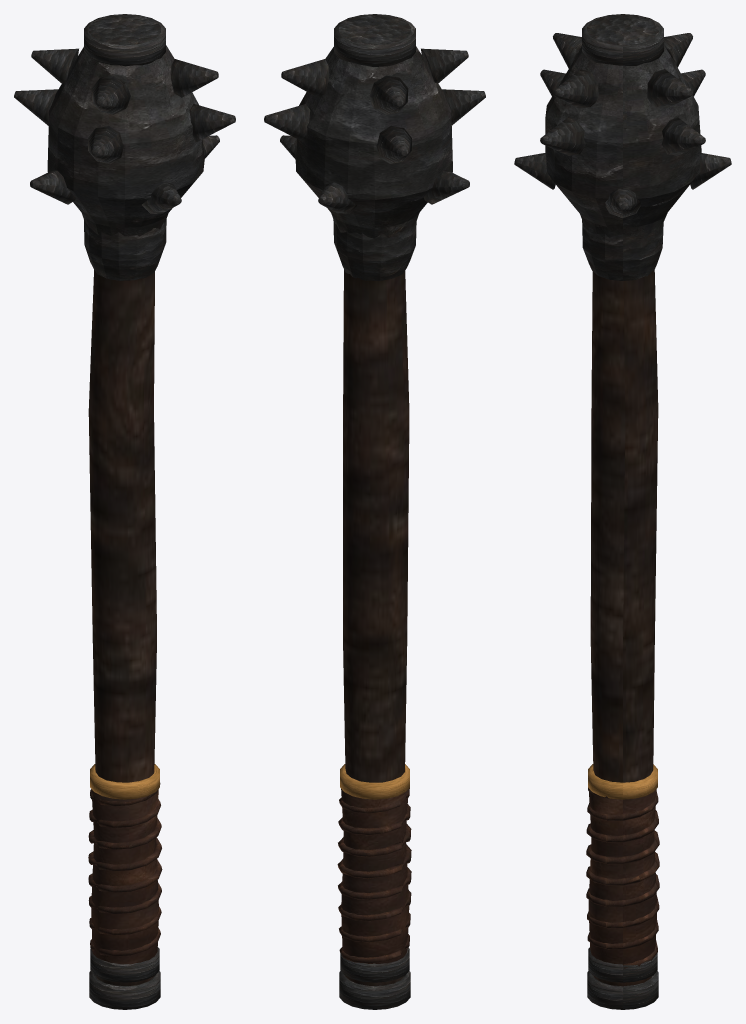
Rendered from bell_iron_morningstar.glb.
The picture shows the model from 3 angles, left to right: view 1: azimuth 30°, elevation 25°; view 2: azimuth 150°, elevation 25°; view 3: azimuth 270°, elevation 25°; orthographic projection.
Parts seen in each view (by area): view 1: Straight palm shaft and tapered ironwood.005, Hollow cast bell-iron head.001, Bound palm grip.011, Continuous bound leather seam.011, Shaft collar.001, Swaged head socket.005, Socketed pommel ferrule.005, Grip rear ferrule.011, Grip forward ferrule.011, Blunted morningstar lug.010, Blunted morningstar lug.011, Blunted morningstar lug.006 (+5 smaller); view 2: Straight palm shaft and tapered ironwood.005, Hollow cast bell-iron head.001, Bound palm grip.011, Continuous bound leather seam.011, Shaft collar.001, Swaged head socket.005, Socketed pommel ferrule.005, Grip forward ferrule.011, Grip rear ferrule.011, Blunted morningstar lug.009, Blunted morningstar lug.008, Blunted morningstar lug.004 (+5 smaller); view 3: Straight palm shaft and tapered ironwood.005, Hollow cast bell-iron head.001, Bound palm grip.011, Continuous bound leather seam.011, Shaft collar.001, Swaged head socket.005, Socketed pommel ferrule.005, Grip forward ferrule.011, Grip rear ferrule.011, Blunted morningstar lug.008, Blunted morningstar lug.011, Blunted morningstar lug.007 (+6 smaller).
Part boxes in pixels (x1=…): Straight palm shaft and tapered ironwood.005: x1=88, y1=269, x2=156, y2=986; Hollow cast bell-iron head.001: x1=47, y1=45, x2=204, y2=236; Bound palm grip.011: x1=91, y1=789, x2=158, y2=964; Continuous bound leather seam.011: x1=88, y1=783, x2=162, y2=956; Shaft collar.001: x1=84, y1=14, x2=165, y2=66; Swaged head socket.005: x1=84, y1=219, x2=166, y2=280; Socketed pommel ferrule.005: x1=89, y1=971, x2=160, y2=1009; Grip rear ferrule.011: x1=90, y1=947, x2=159, y2=982; Grip forward ferrule.011: x1=90, y1=764, x2=159, y2=799; Blunted morningstar lug.010: x1=91, y1=75, x2=130, y2=114; Blunted morningstar lug.011: x1=171, y1=59, x2=218, y2=97; Blunted morningstar lug.006: x1=88, y1=125, x2=123, y2=164; Straight palm shaft and tapered ironwood.005: x1=343, y1=269, x2=409, y2=985; Hollow cast bell-iron head.001: x1=295, y1=46, x2=452, y2=238; Bound palm grip.011: x1=341, y1=789, x2=409, y2=963; Continuous bound leather seam.011: x1=337, y1=787, x2=411, y2=963; Shaft collar.001: x1=334, y1=14, x2=415, y2=66; Swaged head socket.005: x1=333, y1=220, x2=416, y2=280; Socketed pommel ferrule.005: x1=339, y1=971, x2=410, y2=1009; Grip forward ferrule.011: x1=340, y1=764, x2=409, y2=799; Grip rear ferrule.011: x1=340, y1=947, x2=409, y2=982; Blunted morningstar lug.009: x1=369, y1=75, x2=408, y2=114; Blunted morningstar lug.008: x1=281, y1=59, x2=328, y2=97; Blunted morningstar lug.004: x1=264, y1=104, x2=310, y2=142; Straight palm shaft and tapered ironwood.005: x1=590, y1=270, x2=658, y2=986; Hollow cast bell-iron head.001: x1=545, y1=46, x2=701, y2=237; Bound palm grip.011: x1=588, y1=789, x2=656, y2=964; Continuous bound leather seam.011: x1=586, y1=787, x2=659, y2=968; Shaft collar.001: x1=582, y1=14, x2=663, y2=65; Swaged head socket.005: x1=582, y1=219, x2=663, y2=280; Socketed pommel ferrule.005: x1=587, y1=971, x2=658, y2=1009; Grip forward ferrule.011: x1=588, y1=764, x2=657, y2=799; Grip rear ferrule.011: x1=588, y1=947, x2=657, y2=982; Blunted morningstar lug.008: x1=647, y1=69, x2=693, y2=107; Blunted morningstar lug.011: x1=552, y1=69, x2=598, y2=108; Blunted morningstar lug.007: x1=540, y1=117, x2=585, y2=155.
Size of the model in its own units: 0.2192 by 1.08 by 0.2192.
4 materials, 4 textured.
